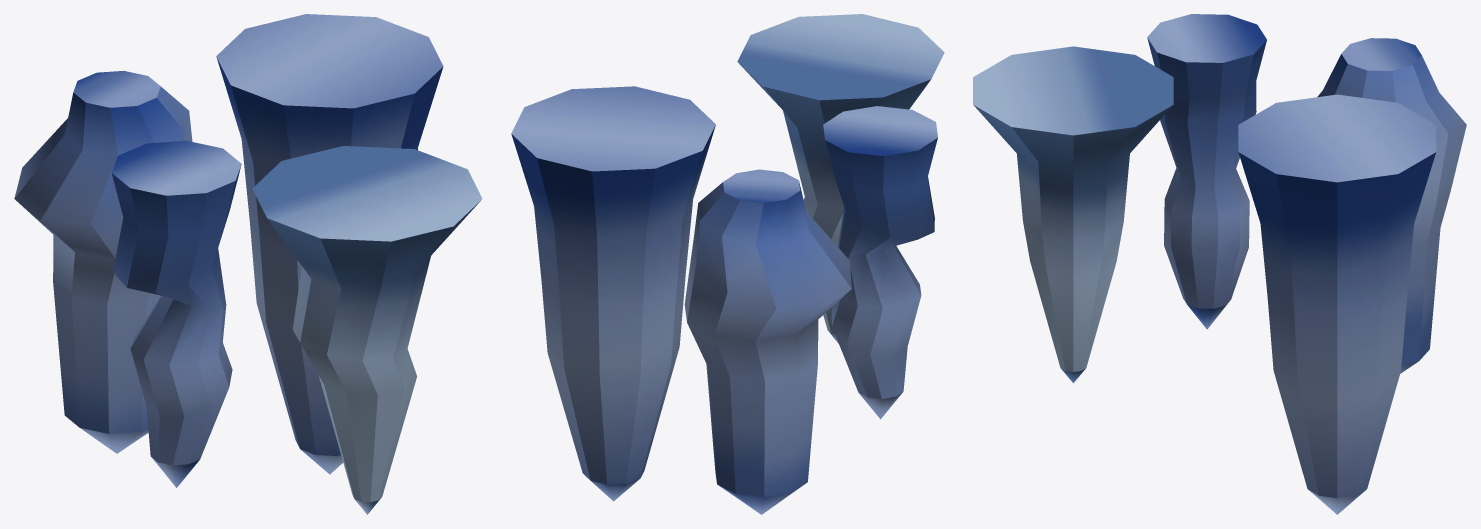
File: Icicle Model.fbx
3 views of the same model, side by side, from view 1: azimuth 30°, elevation 25°; view 2: azimuth 150°, elevation 25°; view 3: azimuth 270°, elevation 25° (orthographic). The views are drawn at different scales.
Parts seen in each view (by area): view 1: Icicle_Group; view 2: Icicle_Group; view 3: Icicle_Group.
Boxes of the visible parts, x1=… form: Icicle_Group: x1=14, y1=14, x2=482, y2=514; Icicle_Group: x1=511, y1=14, x2=944, y2=514; Icicle_Group: x1=973, y1=14, x2=1466, y2=514.
Size of the model in its own units: 1.77 by 1.84 by 2.19.
Materials: 1 (1 with a texture image).
